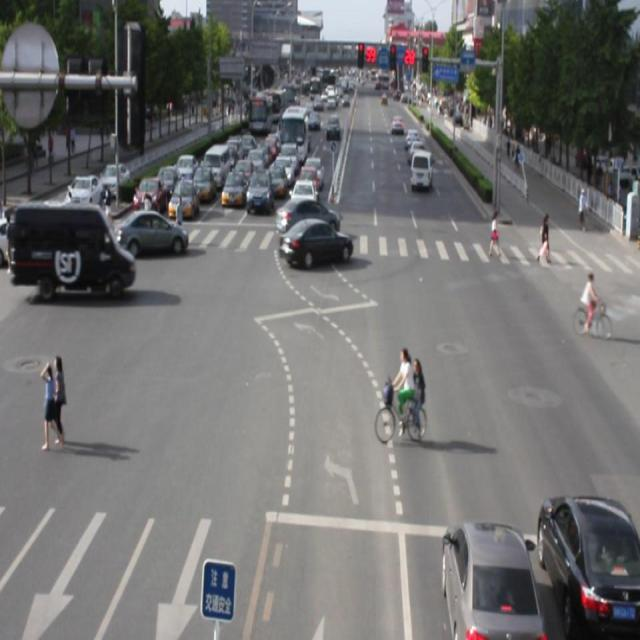car: (535, 493, 640, 640), (442, 516, 541, 640), (278, 218, 354, 268), (113, 210, 188, 256), (281, 197, 340, 234)
